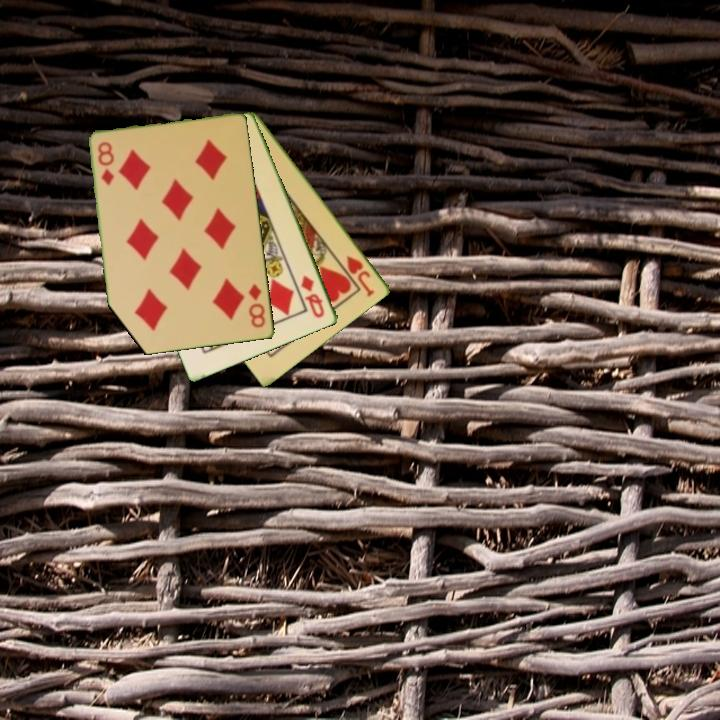8d: (245, 280, 269, 331), (95, 138, 117, 188)
Jh: (343, 252, 378, 300)
Qd: (298, 272, 328, 321)
